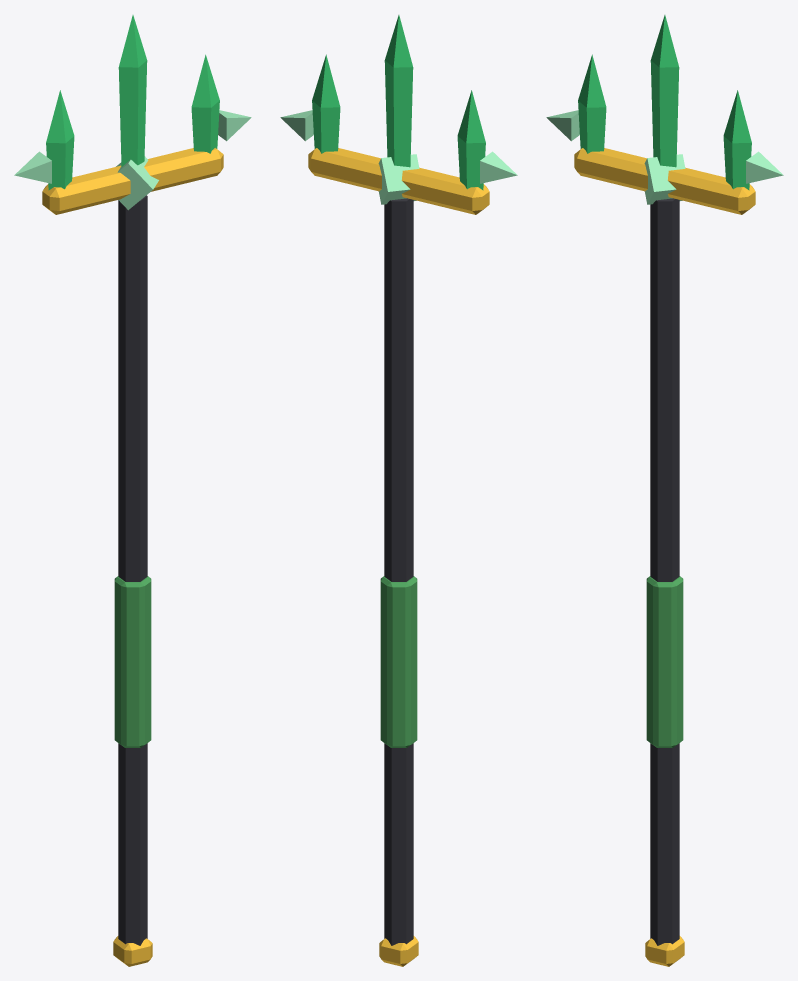
File: EmeraldTrident.fbx
3 renders of one model, left to right at view 1: azimuth 30°, elevation 25°; view 2: azimuth 150°, elevation 25°; view 3: azimuth 330°, elevation 25°, orthographic.
Visible parts, largest first — view 1: EmeraldTrident; view 2: EmeraldTrident; view 3: EmeraldTrident.
Part boxes in pixels (x1,y1,x2,y2): EmeraldTrident: [14, 15, 251, 966]; EmeraldTrident: [280, 15, 517, 966]; EmeraldTrident: [546, 15, 783, 966].
Size of the model in its own units: 1.5 by 5.72 by 0.3414.
Materials: 1 (1 with a texture image).
